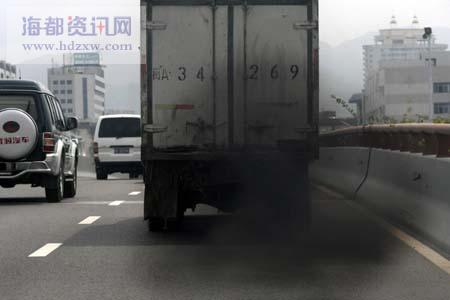smoke: (187, 138, 400, 298)
